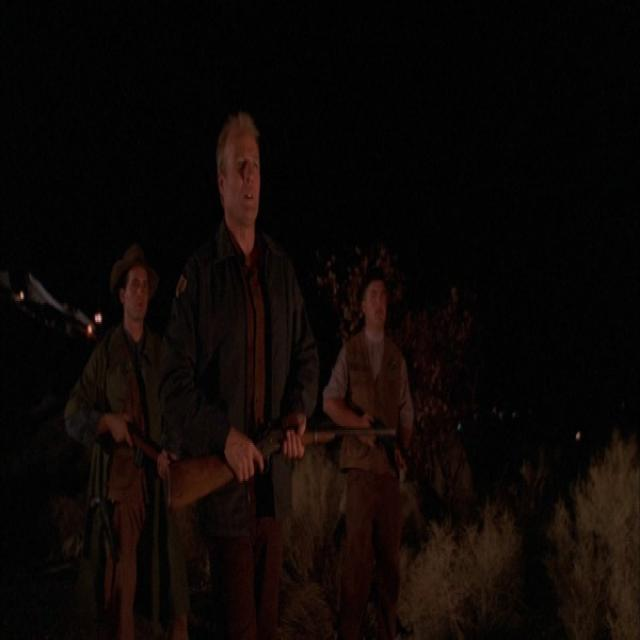rifle: (163, 409, 408, 526)
